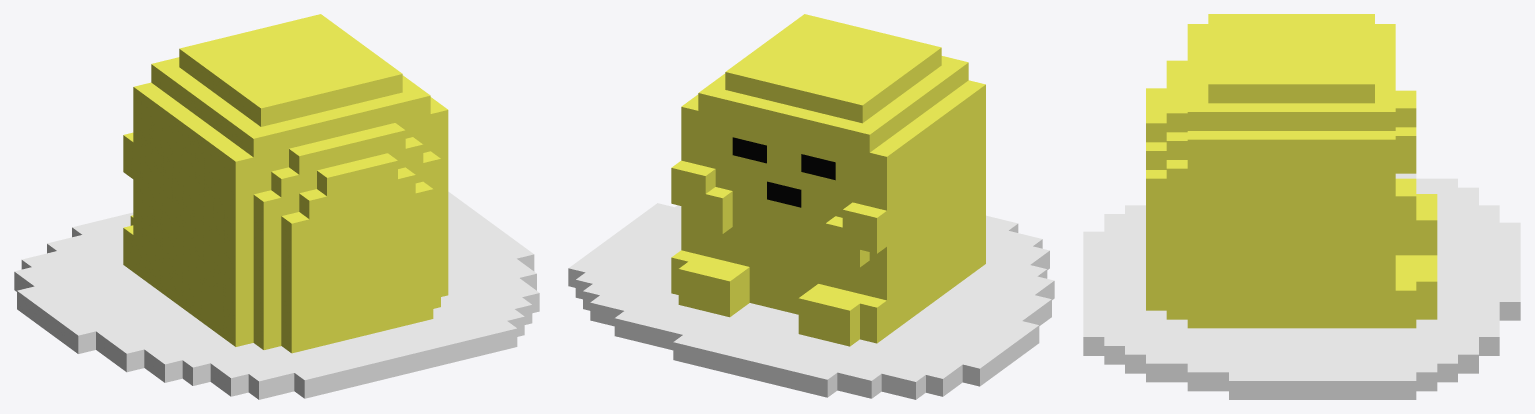
File: gudetama.glb
3 renders of one model, left to right at view 1: azimuth 30°, elevation 25°; view 2: azimuth 150°, elevation 25°; view 3: azimuth 270°, elevation 25°, orthographic. The views are drawn at different scales.
Parts seen in each view (by area): view 1: Final_Build_World__2266_64_1142_to_2291_319_1162; view 2: Final_Build_World__2266_64_1142_to_2291_319_1162; view 3: Final_Build_World__2266_64_1142_to_2291_319_1162.
Part boxes in pixels (bbox=[...]): Final_Build_World__2266_64_1142_to_2291_319_1162: bbox=[14, 14, 539, 399]; Final_Build_World__2266_64_1142_to_2291_319_1162: bbox=[568, 14, 1054, 399]; Final_Build_World__2266_64_1142_to_2291_319_1162: bbox=[1083, 14, 1520, 399].
Size of the model in its own units: 24 by 13 by 21.
